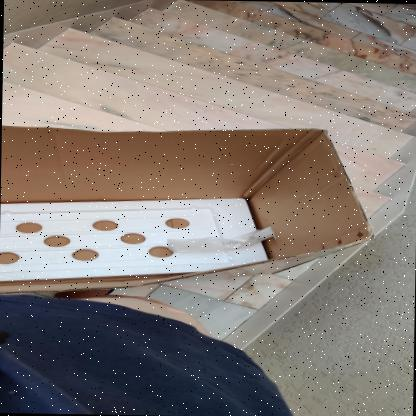Corrugated carton: (0, 125, 374, 294)
Styrofoam piece: (0, 198, 268, 281)
